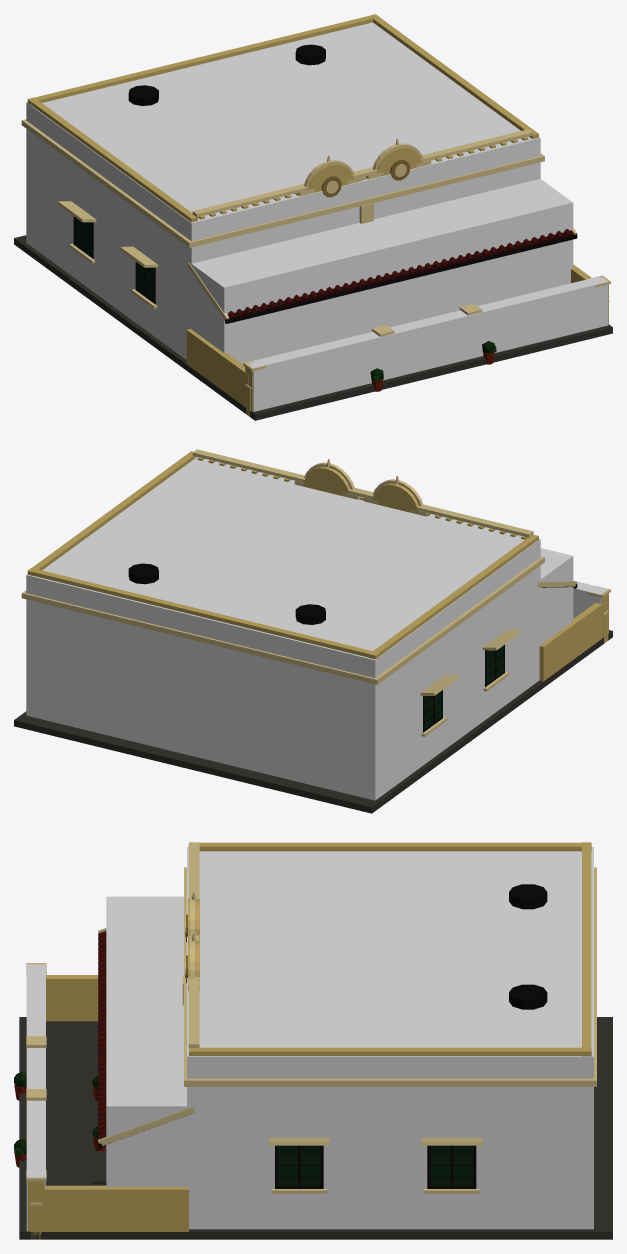
Rendered from CHN_013_twin_house.glb.
The picture shows the model from 3 angles, top to bottom: view 1: azimuth 30°, elevation 25°; view 2: azimuth 150°, elevation 25°; view 3: azimuth 270°, elevation 25°; orthographic projection. The views are drawn at different scales.
Parts seen in each view (by area): view 1: COL_Main, COL_Verandah, LOD0, COL_Compound; view 2: COL_Main, LOD0, COL_Verandah, COL_Compound; view 3: COL_Main, LOD0, COL_Verandah, COL_Compound.
Boxes of the visible parts, x1,y1,x2,y2 form: COL_Main: (26, 22, 540, 359); COL_Verandah: (191, 178, 573, 364); LOD0: (14, 14, 612, 420); COL_Compound: (248, 276, 608, 411); COL_Main: (26, 457, 540, 800); LOD0: (14, 449, 612, 813); COL_Verandah: (540, 548, 573, 644); COL_Compound: (573, 580, 607, 618); COL_Main: (187, 847, 593, 1229); LOD0: (14, 842, 612, 1239); COL_Verandah: (106, 896, 195, 1228); COL_Compound: (26, 964, 45, 1231).
Size of what is drawn, in the model's own units: 12.65 by 5.7 by 14.13.
